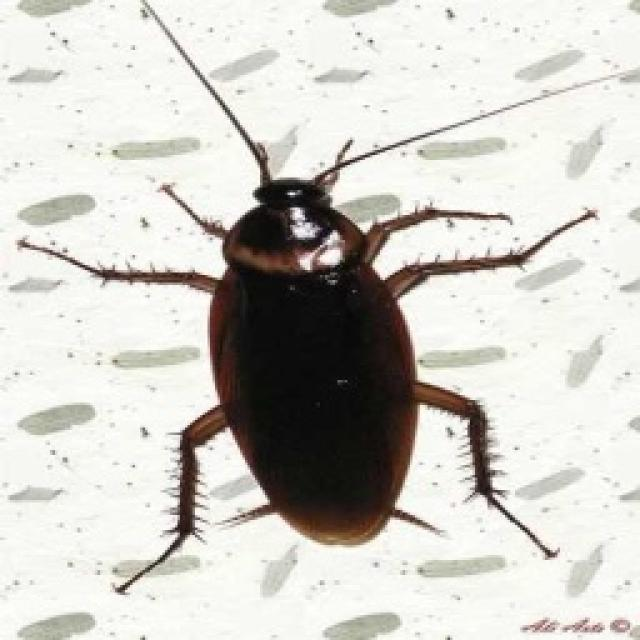cockroach: (16, 5, 617, 597)
